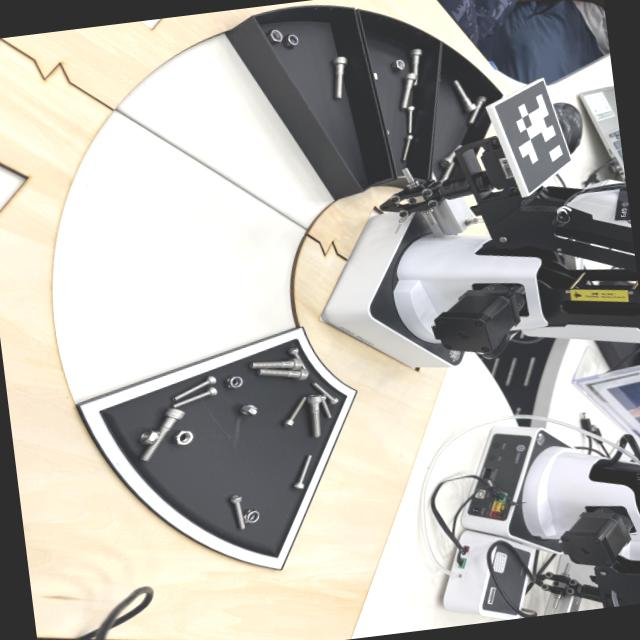big: (132, 398, 186, 465), (447, 74, 478, 113), (462, 90, 491, 126), (331, 54, 350, 100), (256, 365, 311, 380), (397, 72, 418, 111), (306, 393, 323, 439), (248, 356, 301, 368), (410, 46, 421, 84)
board: (70, 309, 375, 580)
box: (225, 1, 388, 212), (384, 40, 509, 200), (337, 7, 442, 184)
circle: (172, 425, 199, 447), (221, 372, 248, 392), (135, 424, 161, 444), (237, 400, 264, 418), (266, 24, 286, 46), (280, 30, 300, 49), (243, 508, 266, 524), (389, 54, 407, 72)
small: (167, 371, 221, 402), (170, 381, 222, 409), (226, 487, 253, 533), (293, 450, 317, 492), (280, 391, 307, 428), (285, 342, 311, 378), (310, 376, 342, 405), (398, 101, 417, 134), (316, 391, 335, 420), (397, 132, 416, 161)
